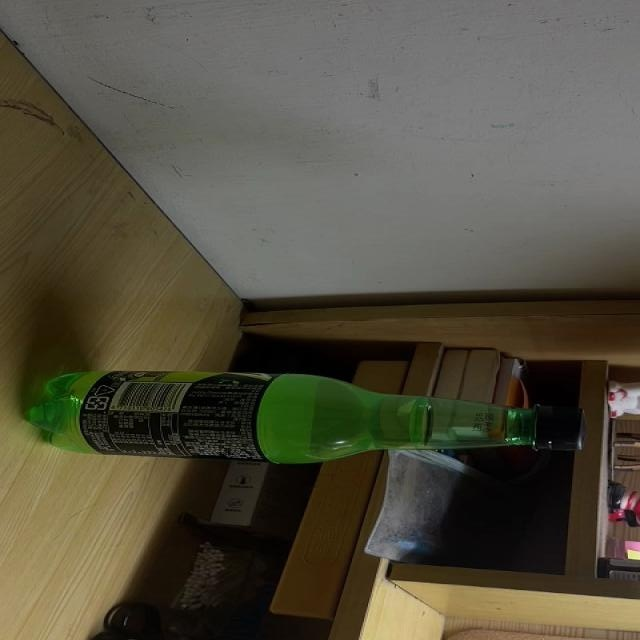Mountain-Dew: (19, 370, 586, 461)
